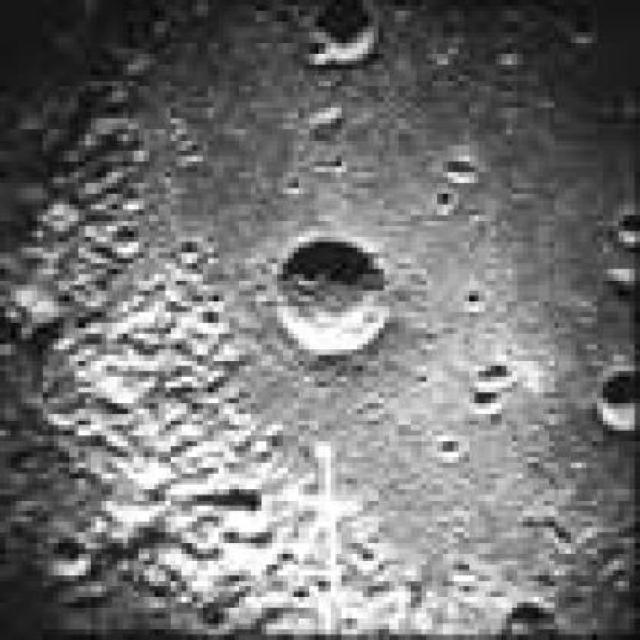crater: (276, 241, 384, 353), (303, 0, 375, 63), (598, 368, 640, 430), (503, 607, 559, 639), (617, 210, 640, 244), (303, 34, 329, 58)
